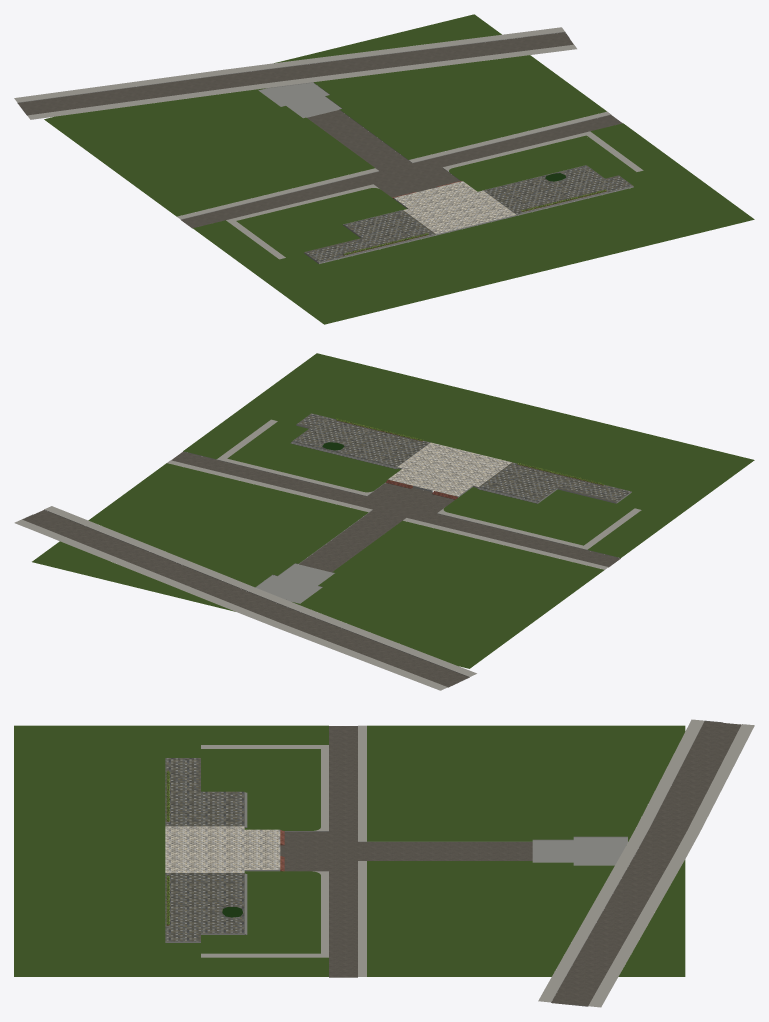
The model's file is forecourt.glb.
3 renders of one model, top to bottom at view 1: azimuth 30°, elevation 25°; view 2: azimuth 150°, elevation 25°; view 3: azimuth 270°, elevation 25°, orthographic. The views are drawn at different scales.
Parts seen in each view (by area): view 1: site.ground.base, site.ground.street, site.ground.forecourt.lawns, site.ground.forecourt.road, site.ground.forecourt.side, site.ground.forecourt.paths, site.ground.forecourt.plaza, site.ground.axis.road, site.ground.gate; view 2: site.ground.base, site.ground.street, site.ground.forecourt.lawns, site.ground.forecourt.road, site.ground.forecourt.side, site.ground.forecourt.paths, site.ground.forecourt.plaza, site.ground.axis.road, site.ground.gate; view 3: site.ground.base, site.ground.street, site.ground.forecourt.lawns, site.ground.forecourt.road, site.ground.forecourt.side, site.ground.forecourt.plaza, site.ground.forecourt.paths, site.ground.axis.road, site.ground.gate.
Part boxes in pixels (box(x1,y1,x2,y2)): site.ground.base: box(44, 14, 754, 324); site.ground.street: box(14, 27, 576, 119); site.ground.forecourt.lawns: box(239, 136, 633, 256); site.ground.forecourt.road: box(181, 115, 622, 228); site.ground.forecourt.side: box(304, 165, 633, 263); site.ground.forecourt.paths: box(177, 111, 643, 259); site.ground.forecourt.plaza: box(394, 181, 516, 235); site.ground.axis.road: box(307, 110, 411, 171); site.ground.gate: box(259, 82, 341, 118); site.ground.base: box(32, 353, 754, 668); site.ground.street: box(14, 506, 476, 690); site.ground.forecourt.lawns: box(230, 422, 631, 544); site.ground.forecourt.road: box(171, 451, 620, 567); site.ground.forecourt.side: box(292, 413, 631, 503); site.ground.forecourt.paths: box(167, 419, 641, 569); site.ground.forecourt.plaza: box(388, 442, 511, 497); site.ground.axis.road: box(299, 510, 405, 572); site.ground.gate: box(256, 563, 334, 603); site.ground.base: box(14, 725, 685, 976); site.ground.street: box(538, 719, 754, 1007); site.ground.forecourt.lawns: box(201, 749, 320, 953); site.ground.forecourt.road: box(280, 726, 357, 977); site.ground.forecourt.side: box(165, 758, 244, 942); site.ground.forecourt.plaza: box(165, 826, 280, 872); site.ground.forecourt.paths: box(201, 725, 366, 976); site.ground.axis.road: box(358, 842, 532, 860); site.ground.gate: box(532, 837, 627, 865).
Size of what is drawn, in the model's own units: 179 by 1.34 by 194.
17 materials, 4 textured.
